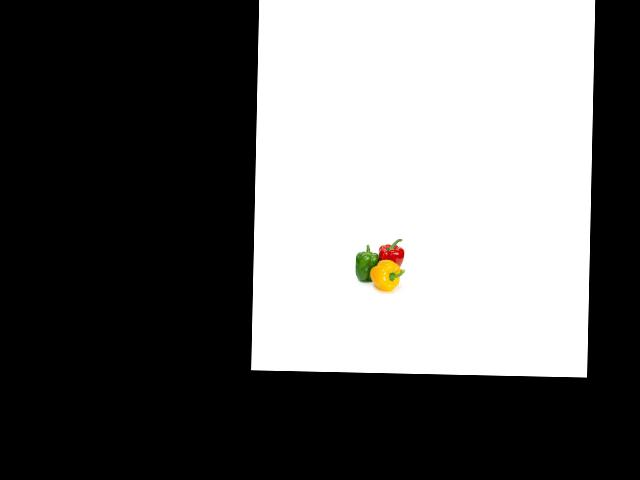bell_pepper: (374, 235, 409, 271)
